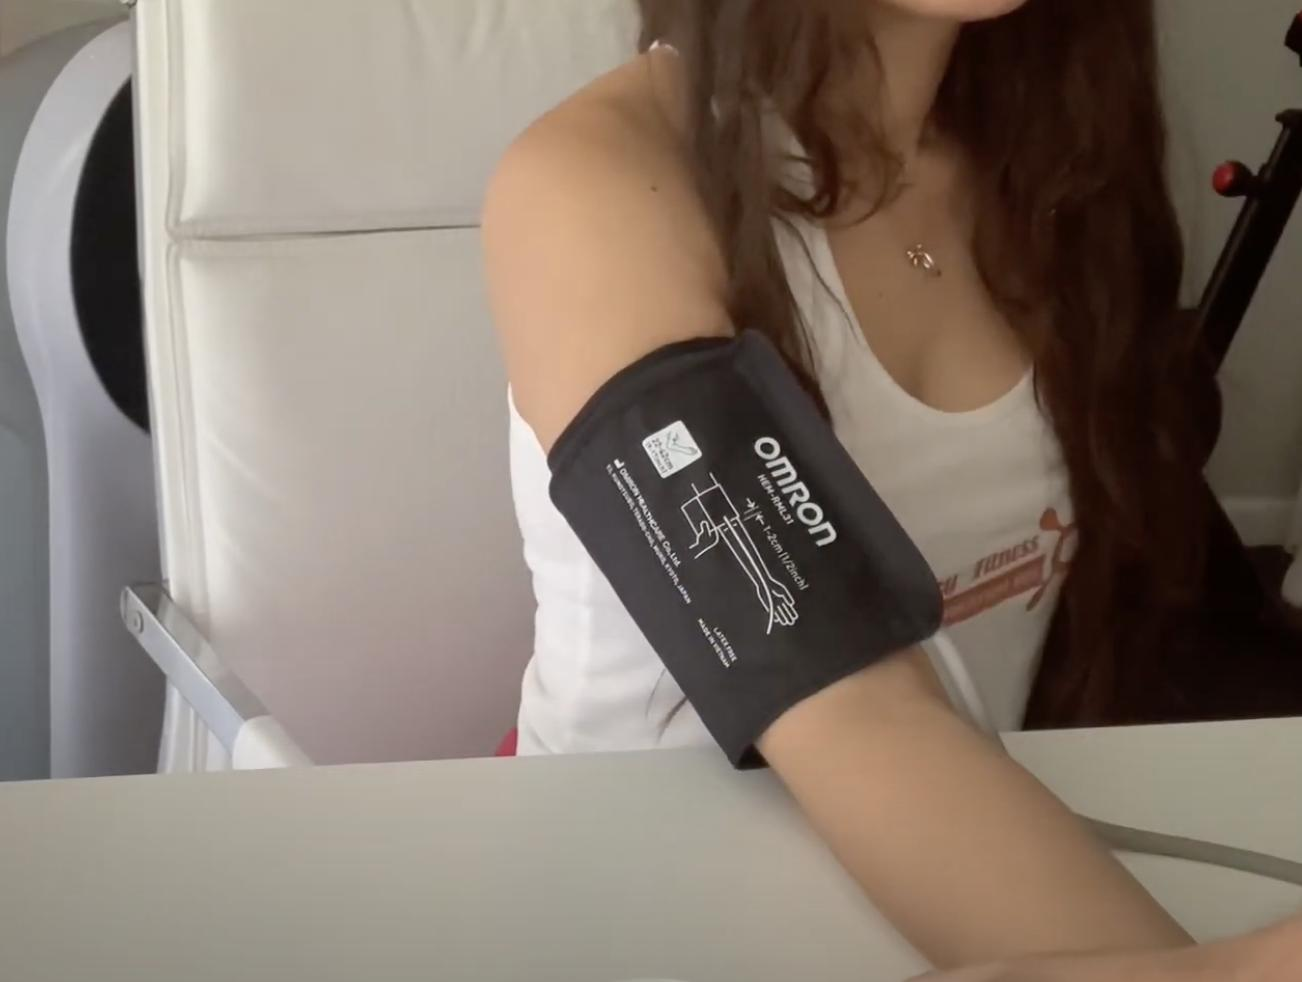cuff: (546, 343, 931, 762)
